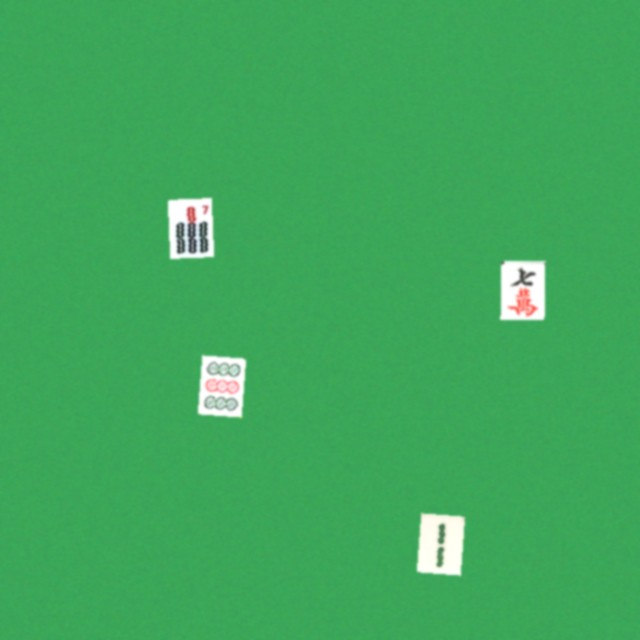tile: (167, 198, 211, 257), (197, 355, 241, 414), (500, 260, 544, 319), (416, 513, 460, 572)
